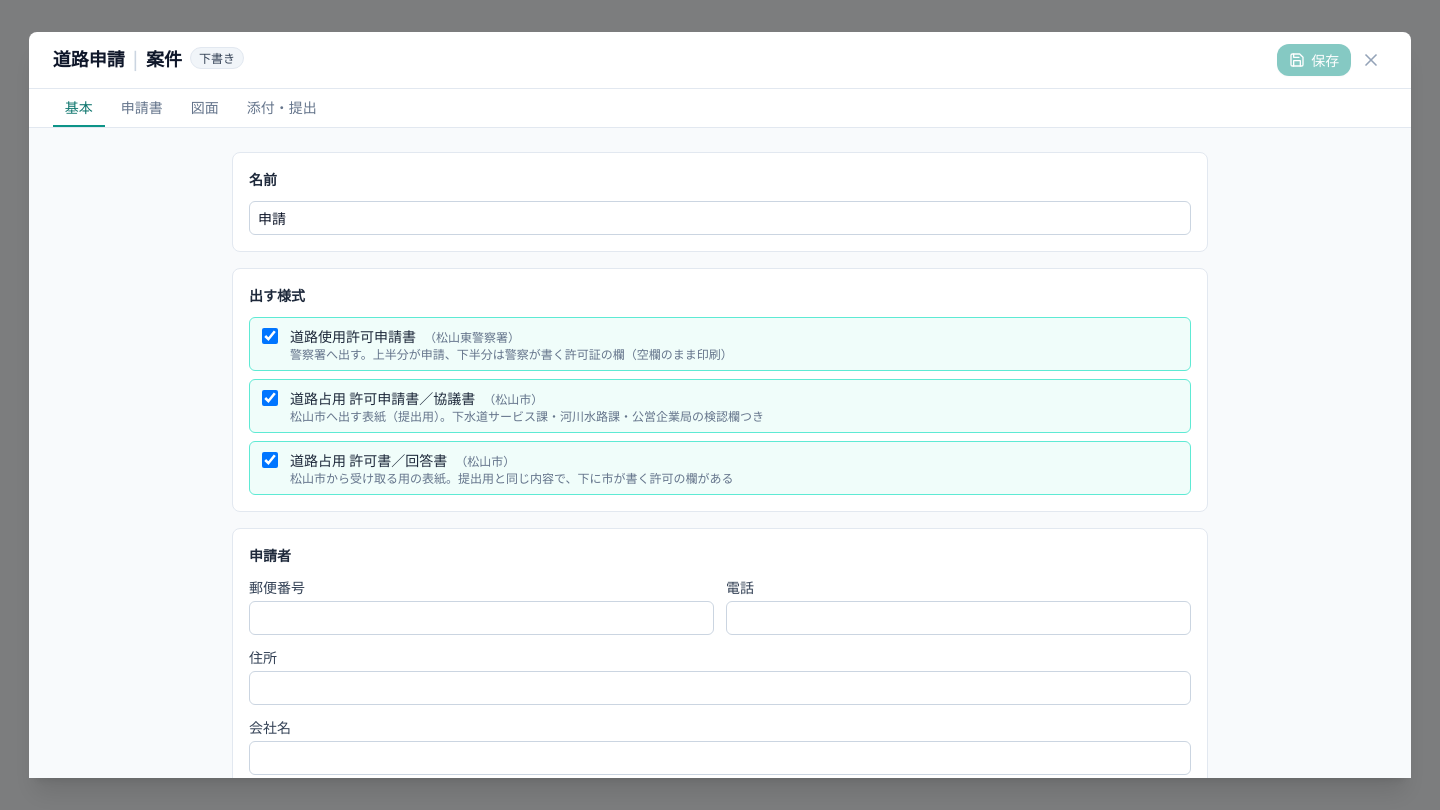
一覧 › 付けたファイルが出る（名前のリンクは新しいタブで開く・大きさ・付けた人）。無い様式は「まだありません」
The image size is (1440, 810).
Click the button "添付・提出" at (282, 108), box [235,89,329,127]
(page scrolled)
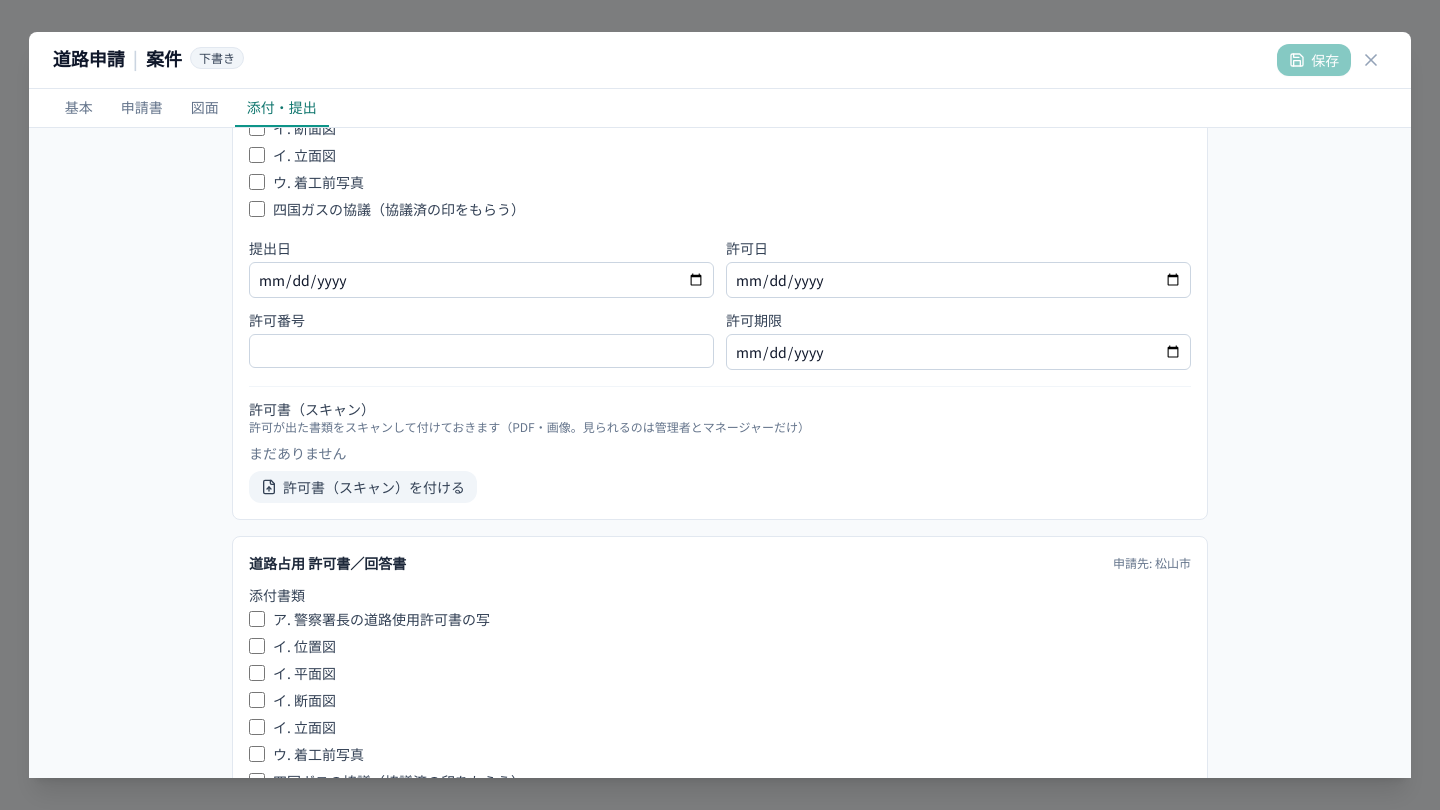
Expected: the text "まだありません" is shown, [249,443,347,463]
